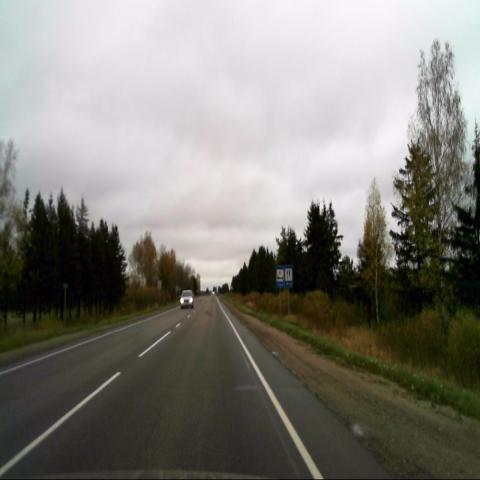7_2: (275, 265, 285, 289)
